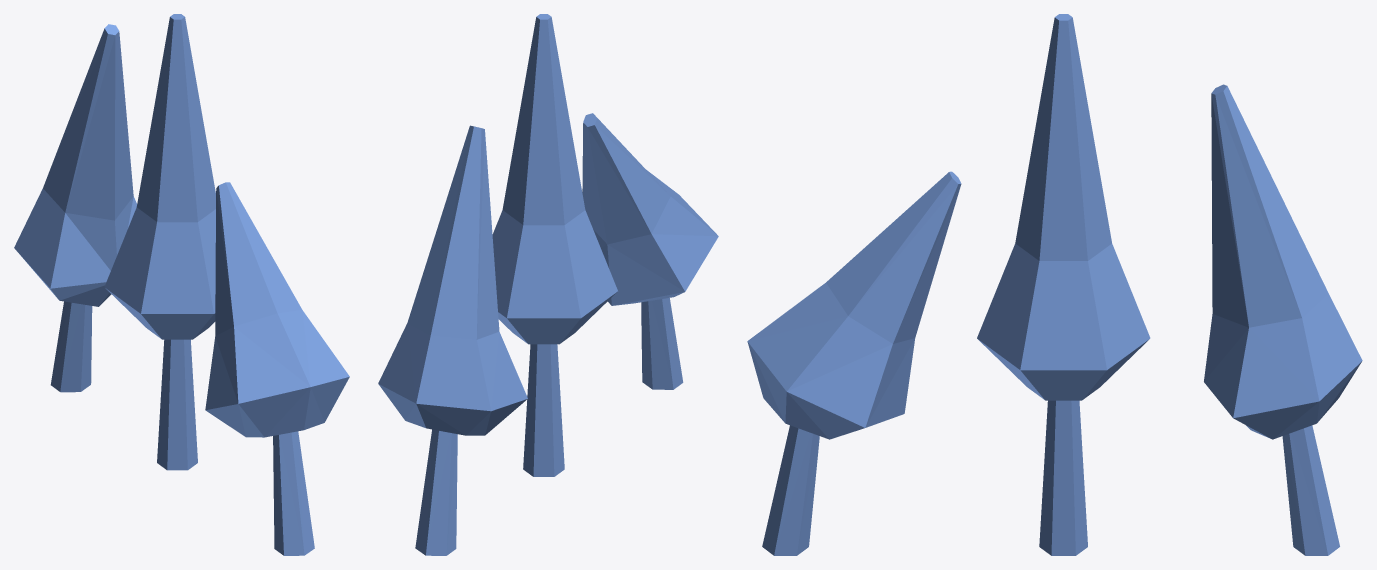
The model's file is Blue_mushroom.fbx.
The picture shows the model from 3 angles, left to right: view 1: azimuth 30°, elevation 25°; view 2: azimuth 150°, elevation 25°; view 3: azimuth 270°, elevation 25°; orthographic projection. The views are drawn at different scales.
Parts seen in each view (by area): view 1: Blue_mushroom; view 2: Blue_mushroom; view 3: Blue_mushroom.
Boxes of the visible parts, x1,y1,x2,y2 form: Blue_mushroom: (14,14,349,555); Blue_mushroom: (378,14,718,555); Blue_mushroom: (747,14,1362,555).
Size of the model in its own units: 66.26 by 253 by 267.
